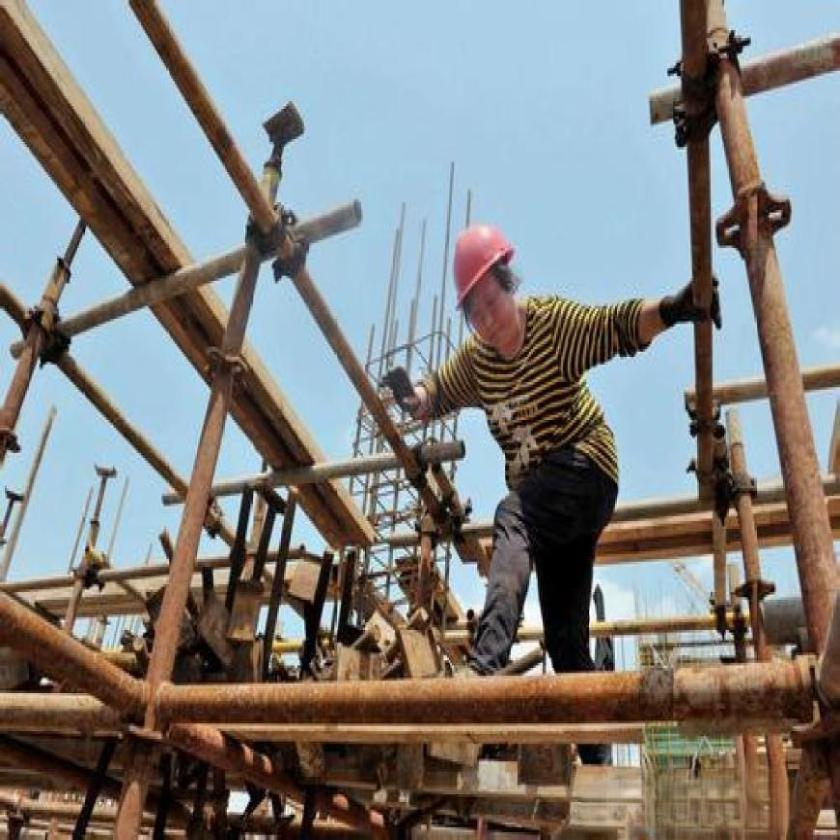Con_casco: (439, 217, 526, 359)
